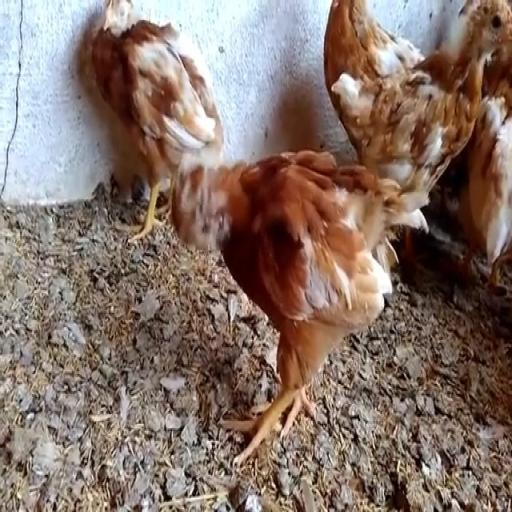disease: (163, 150, 234, 281), (94, 0, 138, 40)
